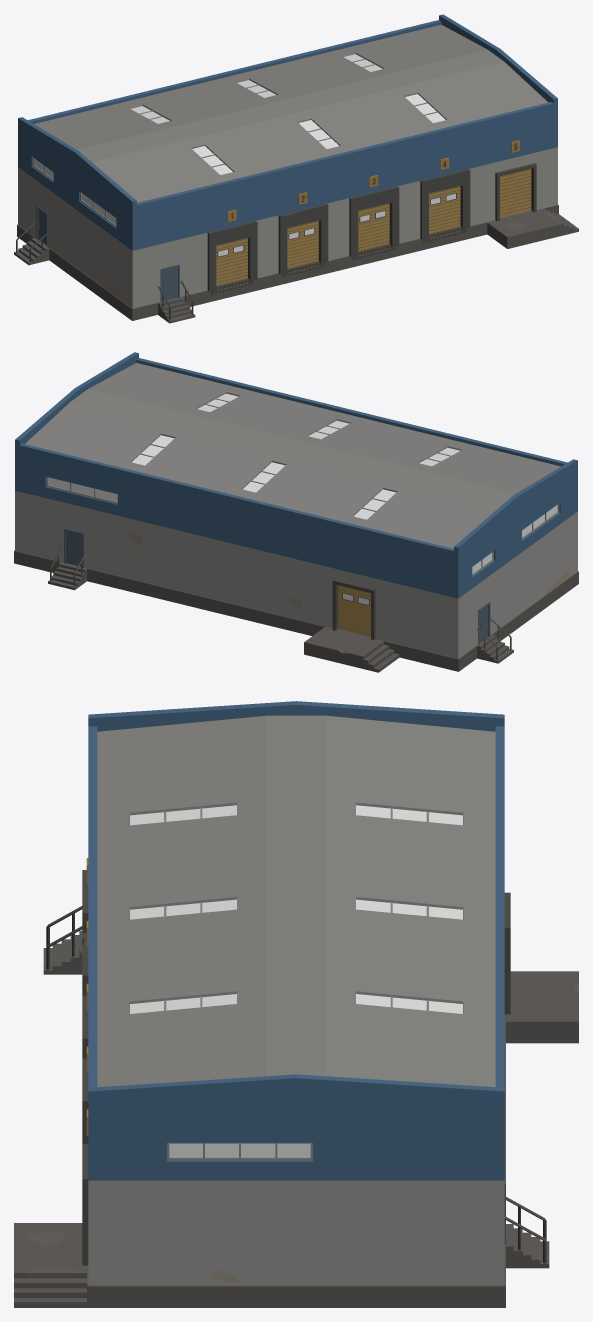
The model's file is SM_Bldg_City_Industrial_Warehouse_02.fbx.
The picture shows the model from 3 angles, top to bottom: view 1: azimuth 30°, elevation 25°; view 2: azimuth 150°, elevation 25°; view 3: azimuth 270°, elevation 25°; orthographic projection. The views are drawn at different scales.
Parts seen in each view (by area): view 1: SM_Bldg_City_Industrial_Warehouse_02; view 2: SM_Bldg_City_Industrial_Warehouse_02; view 3: SM_Bldg_City_Industrial_Warehouse_02.
Boxes of the visible parts, <box> form: SM_Bldg_City_Industrial_Warehouse_02: <box>14,14,578,323</box>; SM_Bldg_City_Industrial_Warehouse_02: <box>14,352,578,672</box>; SM_Bldg_City_Industrial_Warehouse_02: <box>14,701,578,1307</box>.
Bounding box in the file's own units: 3155 × 850 × 1900.
